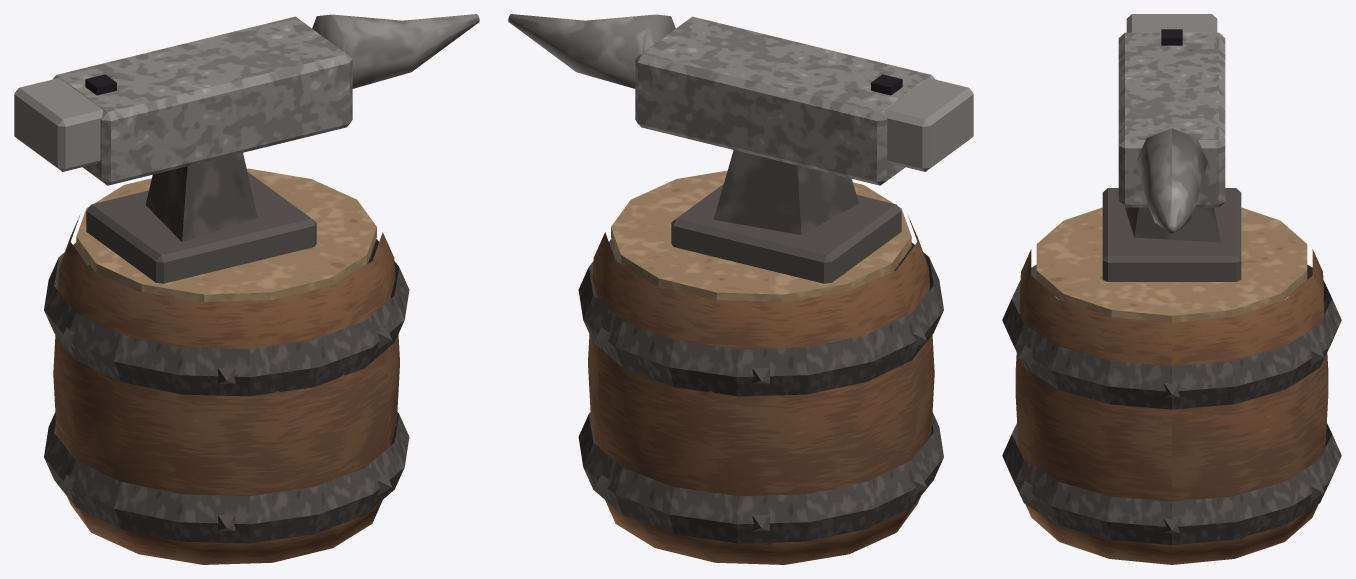
File: anvil.glb
The picture shows the model from 3 angles, left to right: view 1: azimuth 30°, elevation 25°; view 2: azimuth 150°, elevation 25°; view 3: azimuth 270°, elevation 25°; orthographic projection. The views are drawn at different scales.
Visible parts, largest first — view 1: anvil_wooden_stump, anvil_iron_anvil; view 2: anvil_wooden_stump, anvil_iron_anvil; view 3: anvil_wooden_stump, anvil_iron_anvil.
Boxes of the visible parts, x1,y1,x2,y2 form: anvil_wooden_stump: (44, 168, 409, 564); anvil_iron_anvil: (14, 14, 479, 283); anvil_wooden_stump: (578, 170, 943, 564); anvil_iron_anvil: (508, 14, 973, 283); anvil_wooden_stump: (1002, 207, 1341, 564); anvil_iron_anvil: (1102, 14, 1241, 281).
Size of what is drawn, in the model's own units: 0.8811 by 0.8743 by 0.636.
Materials: 5 (5 with a texture image).
